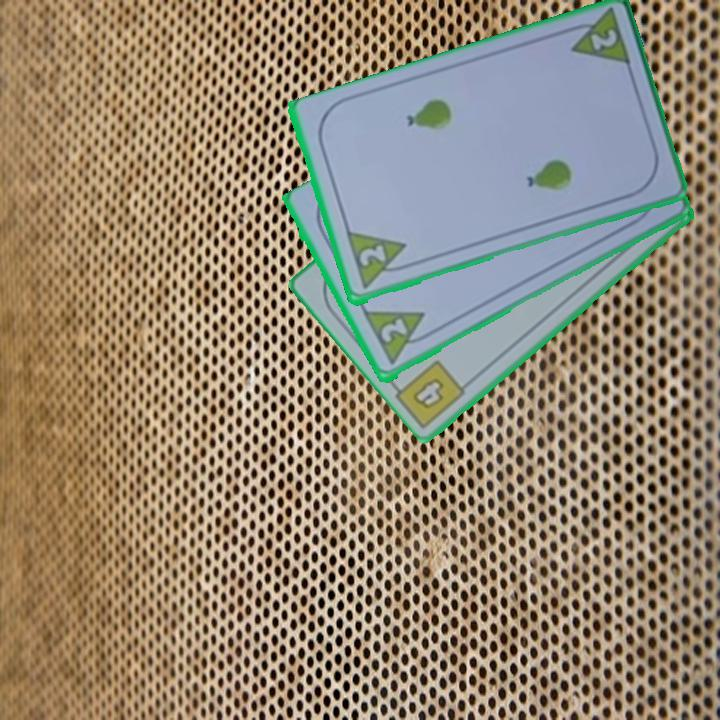2p: (360, 307, 437, 369), (560, 7, 634, 71), (342, 229, 414, 293)
4b: (408, 374, 447, 413)
